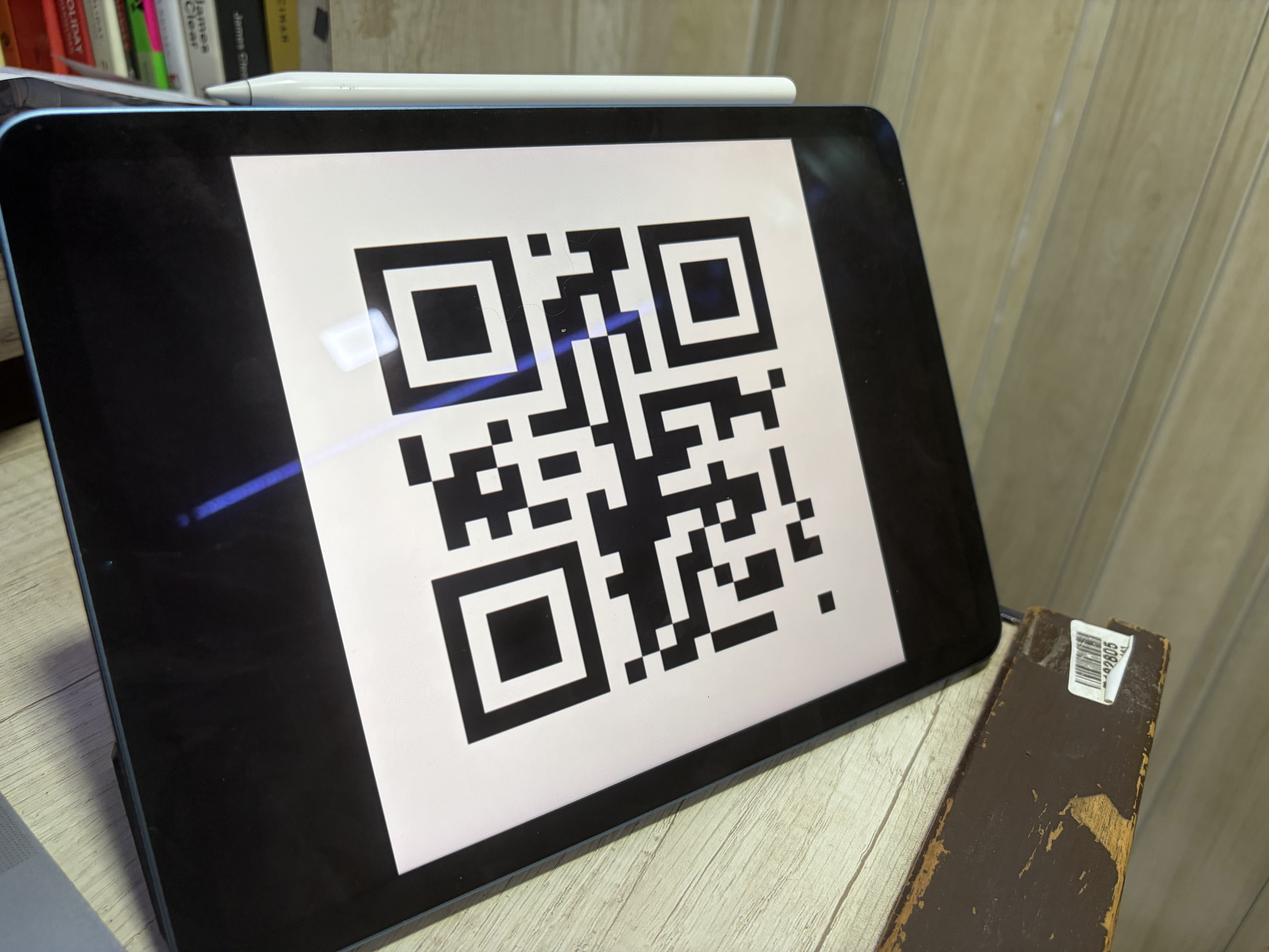QR: (308, 184, 858, 761)
